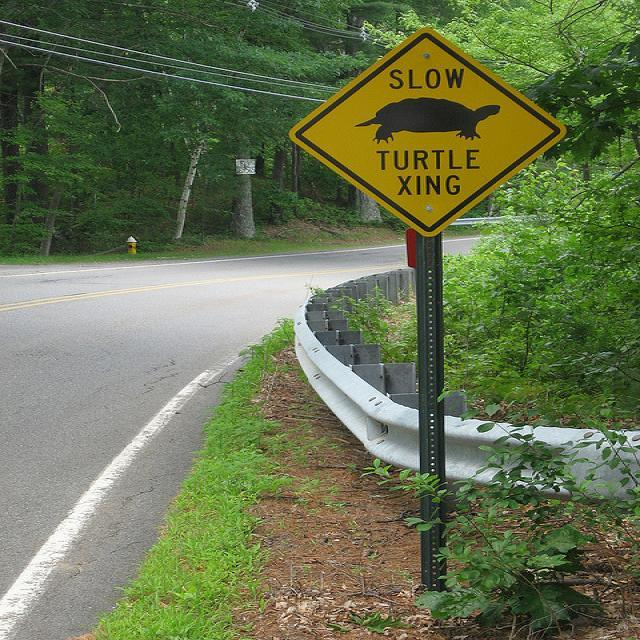fire_hydrant: (125, 235, 139, 254)
